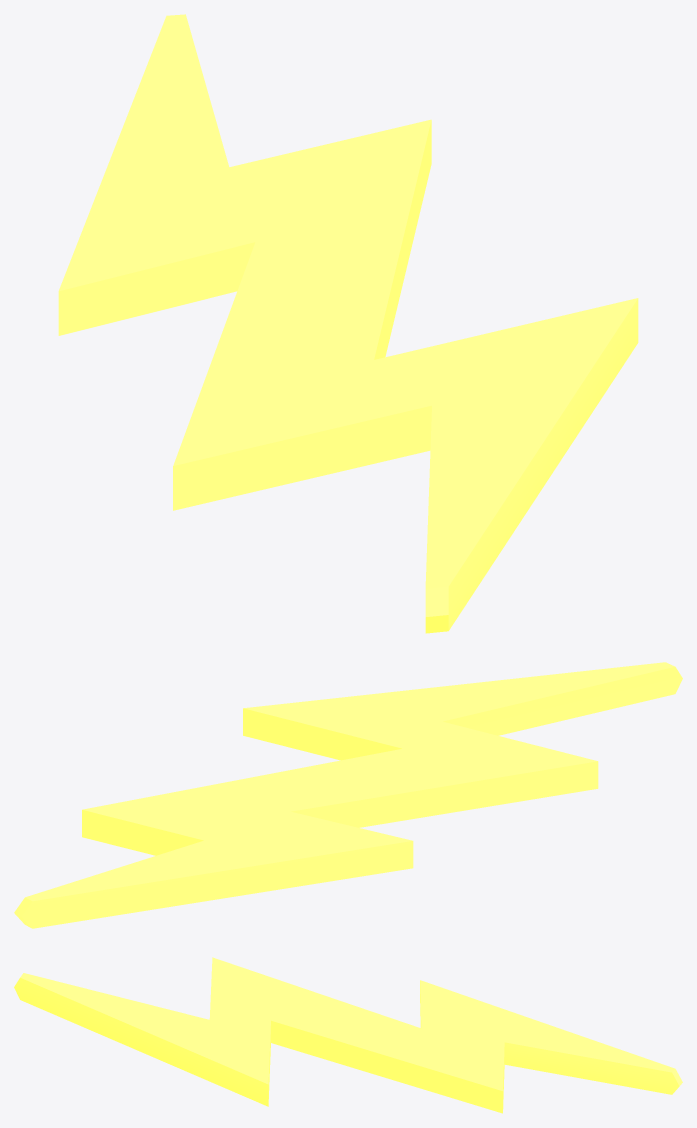
The model's file is Lightning-Bolt.glb.
3 views of the same model, one above another, from view 1: azimuth 30°, elevation 25°; view 2: azimuth 150°, elevation 25°; view 3: azimuth 270°, elevation 25° (orthographic). The views are drawn at different scales.
Parts seen in each view (by area): view 1: Lightning-Bolt; view 2: Lightning-Bolt; view 3: Lightning-Bolt.
Part boxes in pixels (x1,y1,x2,y2): Lightning-Bolt: [58, 14, 638, 633]; Lightning-Bolt: [14, 662, 682, 928]; Lightning-Bolt: [14, 957, 682, 1113].
Size of the model in its own units: 0.0485 by 0.00377 by 0.1024.
